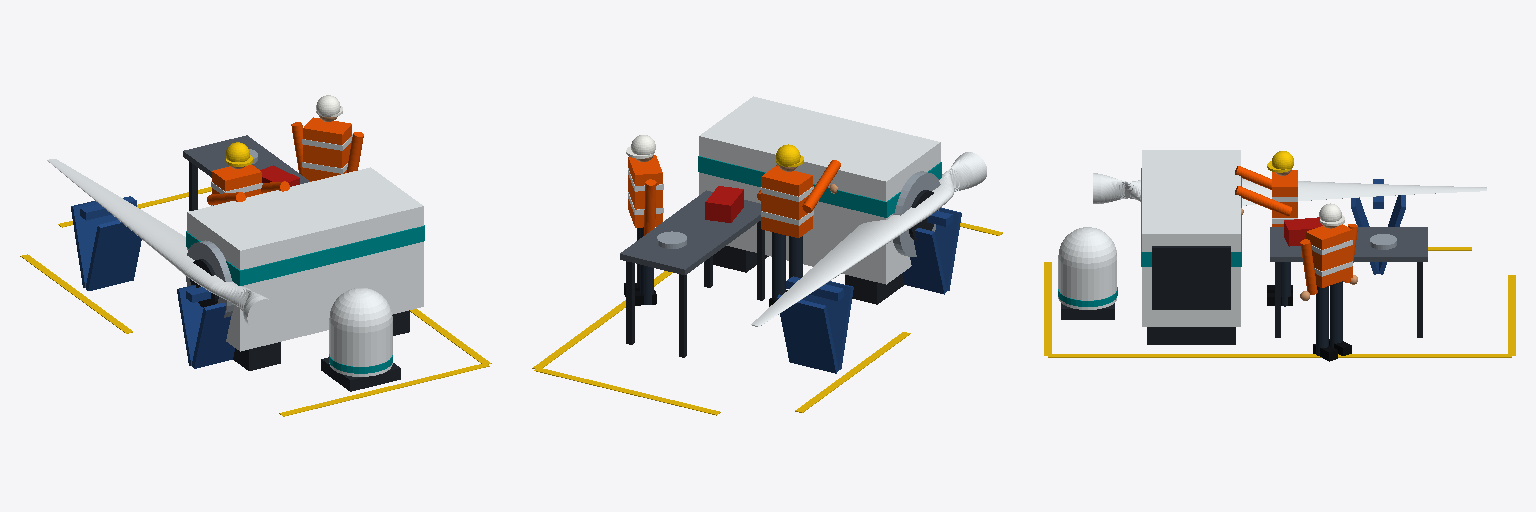
robot.urdf — wind_turbine_assembly:
<?xml version="1.0"?>
<!--
  Wind-turbine assembly station dressing for the AWS small warehouse.

  Purely visual scenery (no collision geometry, so motion planning is unaffected):
  a rotor blade on trestles, a nacelle housing on assembly stands, a rotor hub,
  a workbench, two technicians in high-visibility clothing and a marked assembly
  floor zone. All poses are expressed in warehouse world coordinates; the model
  is merged into the warehouse at the identity pose.

  The blade mesh is generated by generate_turbine_blade_mesh.py.
-->
<robot name="wind_turbine_assembly">

  <material name="turbine_white">
    <color rgba="0.93 0.95 0.96 1.0"/>
  </material>
  <material name="turbine_teal">
    <color rgba="0.0 0.6 0.62 1.0"/>
  </material>
  <material name="steel_grey">
    <color rgba="0.62 0.66 0.70 1.0"/>
  </material>
  <material name="dark_steel">
    <color rgba="0.16 0.18 0.21 1.0"/>
  </material>
  <material name="trestle_blue">
    <color rgba="0.16 0.32 0.55 1.0"/>
  </material>
  <material name="high_visibility_orange">
    <color rgba="0.95 0.36 0.03 1.0"/>
  </material>
  <material name="reflective_silver">
    <color rgba="0.87 0.89 0.90 1.0"/>
  </material>
  <material name="work_trouser_navy">
    <color rgba="0.16 0.20 0.25 1.0"/>
  </material>
  <material name="boot_black">
    <color rgba="0.08 0.09 0.10 1.0"/>
  </material>
  <material name="skin">
    <color rgba="0.85 0.63 0.46 1.0"/>
  </material>
  <material name="helmet_white">
    <color rgba="0.96 0.96 0.94 1.0"/>
  </material>
  <material name="helmet_yellow">
    <color rgba="0.98 0.80 0.05 1.0"/>
  </material>
  <material name="marking_yellow">
    <color rgba="0.95 0.76 0.06 1.0"/>
  </material>
  <material name="toolbox_red">
    <color rgba="0.72 0.12 0.10 1.0"/>
  </material>
  <material name="bench_top_grey">
    <color rgba="0.35 0.38 0.42 1.0"/>
  </material>

  <link name="assembly_area_root"/>

  <!-- rotor blade resting on two trestles, root to the south -->
  <link name="turbine_blade">
    <visual>
      <origin xyz="0 0 0" rpy="0 0 0"/>
      <geometry>
        <mesh filename="meshes/turbine_blade.stl"/>
      </geometry>
      <material name="turbine_white"/>
    </visual>
  </link>
  <joint name="turbine_blade_joint" type="fixed">
    <parent link="assembly_area_root"/>
    <child link="turbine_blade"/>
    <origin xyz="-0.35 4.6 0.88" rpy="0 0 1.5708"/>
  </joint>

  <link name="blade_trestles">
    <!-- south trestle: beam plus two splayed leg panels -->
    <visual>
      <origin xyz="-0.35 5.5 0.74" rpy="0 0 0"/>
      <geometry>
        <box size="0.55 0.12 0.08"/>
      </geometry>
      <material name="trestle_blue"/>
    </visual>
    <visual>
      <origin xyz="-0.35 5.36 0.36" rpy="0.32 0 0"/>
      <geometry>
        <box size="0.5 0.05 0.74"/>
      </geometry>
      <material name="trestle_blue"/>
    </visual>
    <visual>
      <origin xyz="-0.35 5.64 0.36" rpy="-0.32 0 0"/>
      <geometry>
        <box size="0.5 0.05 0.74"/>
      </geometry>
      <material name="trestle_blue"/>
    </visual>
    <!-- north trestle, taller because the blade thins towards its tip -->
    <visual>
      <origin xyz="-0.35 7.5 0.79" rpy="0 0 0"/>
      <geometry>
        <box size="0.55 0.12 0.08"/>
      </geometry>
      <material name="trestle_blue"/>
    </visual>
    <visual>
      <origin xyz="-0.35 7.36 0.385" rpy="0.30 0 0"/>
      <geometry>
        <box size="0.5 0.05 0.79"/>
      </geometry>
      <material name="trestle_blue"/>
    </visual>
    <visual>
      <origin xyz="-0.35 7.64 0.385" rpy="-0.30 0 0"/>
      <geometry>
        <box size="0.5 0.05 0.79"/>
      </geometry>
      <material name="trestle_blue"/>
    </visual>
  </link>
  <joint name="blade_trestles_joint" type="fixed">
    <parent link="assembly_area_root"/>
    <child link="blade_trestles"/>
    <origin xyz="0 0 0.03" rpy="0 0 0"/>
  </joint>

  <!-- nacelle housing on two assembly stands -->
  <link name="nacelle_housing">
    <visual>
      <origin xyz="0.0 5.6 0.125" rpy="0 0 0"/>
      <geometry>
        <box size="0.35 0.9 0.25"/>
      </geometry>
      <material name="dark_steel"/>
    </visual>
    <visual>
      <origin xyz="1.4 5.6 0.125" rpy="0 0 0"/>
      <geometry>
        <box size="0.35 0.9 0.25"/>
      </geometry>
      <material name="dark_steel"/>
    </visual>
    <visual>
      <origin xyz="0.7 5.6 0.78" rpy="0 0 0"/>
      <geometry>
        <box size="2.0 1.0 1.05"/>
      </geometry>
      <material name="turbine_white"/>
    </visual>
    <!-- teal accent band -->
    <visual>
      <origin xyz="0.7 5.6 1.02" rpy="0 0 0"/>
      <geometry>
        <box size="2.02 1.02 0.16"/>
      </geometry>
      <material name="turbine_teal"/>
    </visual>
    <!-- rotor flange on the west face -->
    <visual>
      <origin xyz="-0.34 5.6 0.78" rpy="0 1.5708 0"/>
      <geometry>
        <cylinder radius="0.40" length="0.08"/>
      </geometry>
      <material name="steel_grey"/>
    </visual>
    <visual>
      <origin xyz="-0.39 5.6 0.78" rpy="0 1.5708 0"/>
      <geometry>
        <cylinder radius="0.24" length="0.06"/>
      </geometry>
      <material name="dark_steel"/>
    </visual>
    <!-- cooling vents on the east face -->
    <visual>
      <origin xyz="1.72 5.6 0.82" rpy="0 0 0"/>
      <geometry>
        <box size="0.06 0.8 0.7"/>
      </geometry>
      <material name="dark_steel"/>
    </visual>
  </link>
  <joint name="nacelle_housing_joint" type="fixed">
    <parent link="assembly_area_root"/>
    <child link="nacelle_housing"/>
    <origin xyz="0 0 0.03" rpy="0 0 0"/>
  </joint>

  <!-- rotor hub waiting south of the nacelle -->
  <link name="rotor_hub">
    <visual>
      <origin xyz="0.7 4.55 0.06" rpy="0 0 0"/>
      <geometry>
        <box size="0.55 0.55 0.12"/>
      </geometry>
      <material name="dark_steel"/>
    </visual>
    <visual>
      <origin xyz="0.7 4.55 0.35" rpy="0 0 0"/>
      <geometry>
        <cylinder radius="0.30" length="0.46"/>
      </geometry>
      <material name="turbine_white"/>
    </visual>
    <visual>
      <origin xyz="0.7 4.55 0.58" rpy="0 0 0"/>
      <geometry>
        <sphere radius="0.30"/>
      </geometry>
      <material name="turbine_white"/>
    </visual>
    <visual>
      <origin xyz="0.7 4.55 0.19" rpy="0 0 0"/>
      <geometry>
        <cylinder radius="0.305" length="0.07"/>
      </geometry>
      <material name="turbine_teal"/>
    </visual>
  </link>
  <joint name="rotor_hub_joint" type="fixed">
    <parent link="assembly_area_root"/>
    <child link="rotor_hub"/>
    <origin xyz="0 0 0.03" rpy="0 0 0"/>
  </joint>

  <!-- workbench between the delivery point and the nacelle -->
  <link name="workbench">
    <visual>
      <origin xyz="1.1 7.2 0.9" rpy="0 0 0"/>
      <geometry>
        <box size="0.7 1.6 0.06"/>
      </geometry>
      <material name="bench_top_grey"/>
    </visual>
    <visual>
      <origin xyz="0.82 6.48 0.435" rpy="0 0 0"/>
      <geometry>
        <box size="0.06 0.06 0.87"/>
      </geometry>
      <material name="dark_steel"/>
    </visual>
    <visual>
      <origin xyz="1.38 6.48 0.435" rpy="0 0 0"/>
      <geometry>
        <box size="0.06 0.06 0.87"/>
      </geometry>
      <material name="dark_steel"/>
    </visual>
    <visual>
      <origin xyz="0.82 7.92 0.435" rpy="0 0 0"/>
      <geometry>
        <box size="0.06 0.06 0.87"/>
      </geometry>
      <material name="dark_steel"/>
    </visual>
    <visual>
      <origin xyz="1.38 7.92 0.435" rpy="0 0 0"/>
      <geometry>
        <box size="0.06 0.06 0.87"/>
      </geometry>
      <material name="dark_steel"/>
    </visual>
    <!-- toolbox and a spare flange on the bench top -->
    <visual>
      <origin xyz="1.05 6.75 1.02" rpy="0 0 0.2"/>
      <geometry>
        <box size="0.25 0.38 0.18"/>
      </geometry>
      <material name="toolbox_red"/>
    </visual>
    <visual>
      <origin xyz="1.15 7.55 0.955" rpy="0 0 0"/>
      <geometry>
        <cylinder radius="0.14" length="0.05"/>
      </geometry>
      <material name="steel_grey"/>
    </visual>
  </link>
  <joint name="workbench_joint" type="fixed">
    <parent link="assembly_area_root"/>
    <child link="workbench"/>
    <origin xyz="0 0 0.03" rpy="0 0 0"/>
  </joint>

  <!-- technician awaiting deliveries at the workbench, facing the drop-off point -->
  <link name="assembly_technician_one">
    <visual>
      <origin xyz="0 0.09 0.41" rpy="0 0 0"/>
      <geometry>
        <cylinder radius="0.065" length="0.82"/>
      </geometry>
      <material name="work_trouser_navy"/>
    </visual>
    <visual>
      <origin xyz="0 -0.09 0.41" rpy="0 0 0"/>
      <geometry>
        <cylinder radius="0.065" length="0.82"/>
      </geometry>
      <material name="work_trouser_navy"/>
    </visual>
    <visual>
      <origin xyz="0.05 0.09 0.05" rpy="0 0 0"/>
      <geometry>
        <box size="0.26 0.11 0.10"/>
      </geometry>
      <material name="boot_black"/>
    </visual>
    <visual>
      <origin xyz="0.05 -0.09 0.05" rpy="0 0 0"/>
      <geometry>
        <box size="0.26 0.11 0.10"/>
      </geometry>
      <material name="boot_black"/>
    </visual>
    <visual>
      <origin xyz="0 0 1.09" rpy="0 0 0"/>
      <geometry>
        <box size="0.26 0.40 0.54"/>
      </geometry>
      <material name="high_visibility_orange"/>
    </visual>
    <visual>
      <origin xyz="0 0 0.98" rpy="0 0 0"/>
      <geometry>
        <box size="0.27 0.41 0.055"/>
      </geometry>
      <material name="reflective_silver"/>
    </visual>
    <visual>
      <origin xyz="0 0 1.22" rpy="0 0 0"/>
      <geometry>
        <box size="0.27 0.41 0.055"/>
      </geometry>
      <material name="reflective_silver"/>
    </visual>
    <visual>
      <origin xyz="0 0.265 1.03" rpy="-0.16 0 0"/>
      <geometry>
        <cylinder radius="0.052" length="0.60"/>
      </geometry>
      <material name="high_visibility_orange"/>
    </visual>
    <visual>
      <origin xyz="0 -0.265 1.03" rpy="0.16 0 0"/>
      <geometry>
        <cylinder radius="0.052" length="0.60"/>
      </geometry>
      <material name="high_visibility_orange"/>
    </visual>
    <visual>
      <origin xyz="0 0.313 0.72" rpy="0 0 0"/>
      <geometry>
        <sphere radius="0.052"/>
      </geometry>
      <material name="skin"/>
    </visual>
    <visual>
      <origin xyz="0 -0.313 0.72" rpy="0 0 0"/>
      <geometry>
        <sphere radius="0.052"/>
      </geometry>
      <material name="skin"/>
    </visual>
    <visual>
      <origin xyz="0.02 0 1.50" rpy="0 0 0"/>
      <geometry>
        <sphere radius="0.10"/>
      </geometry>
      <material name="skin"/>
    </visual>
    <visual>
      <origin xyz="0.02 0 1.545" rpy="0 0 0"/>
      <geometry>
        <sphere radius="0.115"/>
      </geometry>
      <material name="helmet_white"/>
    </visual>
    <visual>
      <origin xyz="0.05 0 1.50" rpy="0 0 0"/>
      <geometry>
        <cylinder radius="0.13" length="0.025"/>
      </geometry>
      <material name="helmet_white"/>
    </visual>
  </link>
  <joint name="assembly_technician_one_joint" type="fixed">
    <parent link="assembly_area_root"/>
    <child link="assembly_technician_one"/>
    <origin xyz="1.75 7.0 0.03" rpy="0 0 0.68"/>
  </joint>

  <!-- technician working on the nacelle, facing it from the north -->
  <link name="assembly_technician_two">
    <visual>
      <origin xyz="0 0.09 0.41" rpy="0 0 0"/>
      <geometry>
        <cylinder radius="0.065" length="0.82"/>
      </geometry>
      <material name="work_trouser_navy"/>
    </visual>
    <visual>
      <origin xyz="0 -0.09 0.41" rpy="0 0 0"/>
      <geometry>
        <cylinder radius="0.065" length="0.82"/>
      </geometry>
      <material name="work_trouser_navy"/>
    </visual>
    <visual>
      <origin xyz="0.05 0.09 0.05" rpy="0 0 0"/>
      <geometry>
        <box size="0.26 0.11 0.10"/>
      </geometry>
      <material name="boot_black"/>
    </visual>
    <visual>
      <origin xyz="0.05 -0.09 0.05" rpy="0 0 0"/>
      <geometry>
        <box size="0.26 0.11 0.10"/>
      </geometry>
      <material name="boot_black"/>
    </visual>
    <visual>
      <origin xyz="0 0 1.09" rpy="0 0 0"/>
      <geometry>
        <box size="0.26 0.40 0.54"/>
      </geometry>
      <material name="high_visibility_orange"/>
    </visual>
    <visual>
      <origin xyz="0 0 0.98" rpy="0 0 0"/>
      <geometry>
        <box size="0.27 0.41 0.055"/>
      </geometry>
      <material name="reflective_silver"/>
    </visual>
    <visual>
      <origin xyz="0 0 1.22" rpy="0 0 0"/>
      <geometry>
        <box size="0.27 0.41 0.055"/>
      </geometry>
      <material name="reflective_silver"/>
    </visual>
    <!-- arms reaching forward towards the nacelle -->
    <visual>
      <origin xyz="0.22 0.24 1.22" rpy="0 1.15 0"/>
      <geometry>
        <cylinder radius="0.052" length="0.60"/>
      </geometry>
      <material name="high_visibility_orange"/>
    </visual>
    <visual>
      <origin xyz="0.22 -0.24 1.22" rpy="0 1.15 0"/>
      <geometry>
        <cylinder radius="0.052" length="0.60"/>
      </geometry>
      <material name="high_visibility_orange"/>
    </visual>
    <visual>
      <origin xyz="0.47 0.24 1.10" rpy="0 0 0"/>
      <geometry>
        <sphere radius="0.052"/>
      </geometry>
      <material name="skin"/>
    </visual>
    <visual>
      <origin xyz="0.47 -0.24 1.10" rpy="0 0 0"/>
      <geometry>
        <sphere radius="0.052"/>
      </geometry>
      <material name="skin"/>
    </visual>
    <visual>
      <origin xyz="0.02 0 1.50" rpy="0 0 0"/>
      <geometry>
        <sphere radius="0.10"/>
      </geometry>
      <material name="skin"/>
    </visual>
    <visual>
      <origin xyz="0.02 0 1.545" rpy="0 0 0"/>
      <geometry>
        <sphere radius="0.115"/>
      </geometry>
      <material name="helmet_yellow"/>
    </visual>
    <visual>
      <origin xyz="0.05 0 1.50" rpy="0 0 0"/>
      <geometry>
        <cylinder radius="0.13" length="0.025"/>
      </geometry>
      <material name="helmet_yellow"/>
    </visual>
  </link>
  <joint name="assembly_technician_two_joint" type="fixed">
    <parent link="assembly_area_root"/>
    <child link="assembly_technician_two"/>
    <origin xyz="0.5 6.55 0.03" rpy="0 0 -1.5708"/>
  </joint>

  <!-- yellow floor marking framing the assembly zone; the west and north strips
       stop short of the warehouse pallets and shelves already standing there -->
  <link name="assembly_zone_marking">
    <visual>
      <origin xyz="-0.72 7.45 0.003" rpy="0 0 0"/>
      <geometry>
        <box size="0.08 2.0 0.006"/>
      </geometry>
      <material name="marking_yellow"/>
    </visual>
    <visual>
      <origin xyz="1.85 6.5 0.003" rpy="0 0 0"/>
      <geometry>
        <box size="0.08 4.7 0.006"/>
      </geometry>
      <material name="marking_yellow"/>
    </visual>
    <visual>
      <origin xyz="0.725 4.15 0.003" rpy="0 0 0"/>
      <geometry>
        <box size="2.25 0.08 0.006"/>
      </geometry>
      <material name="marking_yellow"/>
    </visual>
    <visual>
      <origin xyz="0.875 8.85 0.003" rpy="0 0 0"/>
      <geometry>
        <box size="1.95 0.08 0.006"/>
      </geometry>
      <material name="marking_yellow"/>
    </visual>
  </link>
  <joint name="assembly_zone_marking_joint" type="fixed">
    <parent link="assembly_area_root"/>
    <child link="assembly_zone_marking"/>
    <origin xyz="0 0 0.03" rpy="0 0 0"/>
  </joint>

</robot>

--- What the picture shows (computed from the rendered views, not written in the file) ---
The picture shows the robot from 3 angles, left to right: view 1: azimuth 30°, elevation 25°; view 2: azimuth 150°, elevation 25°; view 3: azimuth 270°, elevation 25°; orthographic projection.
Robot: wind_turbine_assembly — 9 links, 8 joints (8 fixed); root link assembly_area_root; default pose: all joints at 0.
Visible links, largest first — view 1: nacelle_housing, blade_trestles, rotor_hub, turbine_blade, assembly_technician_one, workbench, assembly_zone_marking, assembly_technician_two; view 2: nacelle_housing, workbench, blade_trestles, assembly_technician_two, turbine_blade, assembly_technician_one, assembly_zone_marking; view 3: nacelle_housing, assembly_technician_one, rotor_hub, workbench, turbine_blade, assembly_zone_marking, assembly_technician_two, blade_trestles.
Link boxes in pixels (left/top/right/bottom): nacelle_housing: left=186, top=167, right=424, bottom=370; blade_trestles: left=71, top=196, right=234, bottom=368; rotor_hub: left=321, top=288, right=400, bottom=391; turbine_blade: left=47, top=159, right=276, bottom=330; assembly_technician_one: left=291, top=95, right=363, bottom=181; workbench: left=183, top=135, right=309, bottom=210; assembly_zone_marking: left=20, top=187, right=491, bottom=416; assembly_technician_two: left=207, top=142, right=289, bottom=205; nacelle_housing: left=698, top=96, right=941, bottom=304; workbench: left=620, top=186, right=764, bottom=357; blade_trestles: left=777, top=208, right=961, bottom=373; assembly_technician_two: left=757, top=144, right=840, bottom=306; turbine_blade: left=751, top=152, right=986, bottom=326; assembly_technician_one: left=624, top=135, right=663, bottom=305; assembly_zone_marking: left=532, top=222, right=1002, bottom=415; nacelle_housing: left=1141, top=150, right=1241, bottom=344; assembly_technician_one: left=1300, top=203, right=1357, bottom=361; rotor_hub: left=1058, top=227, right=1117, bottom=319; workbench: left=1270, top=217, right=1427, bottom=337; turbine_blade: left=1093, top=173, right=1486, bottom=205; assembly_zone_marking: left=1044, top=247, right=1515, bottom=357; assembly_technician_two: left=1235, top=151, right=1297, bottom=306; blade_trestles: left=1351, top=179, right=1405, bottom=274.
Size in the robot's own frame: 2.76 by 4.78 by 1.66 metres.
1 mesh visuals loaded from 1 distinct referenced files (1 binary STL).
